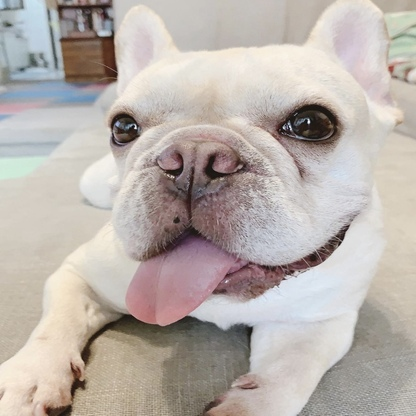bulldog: (1, 1, 403, 416)
